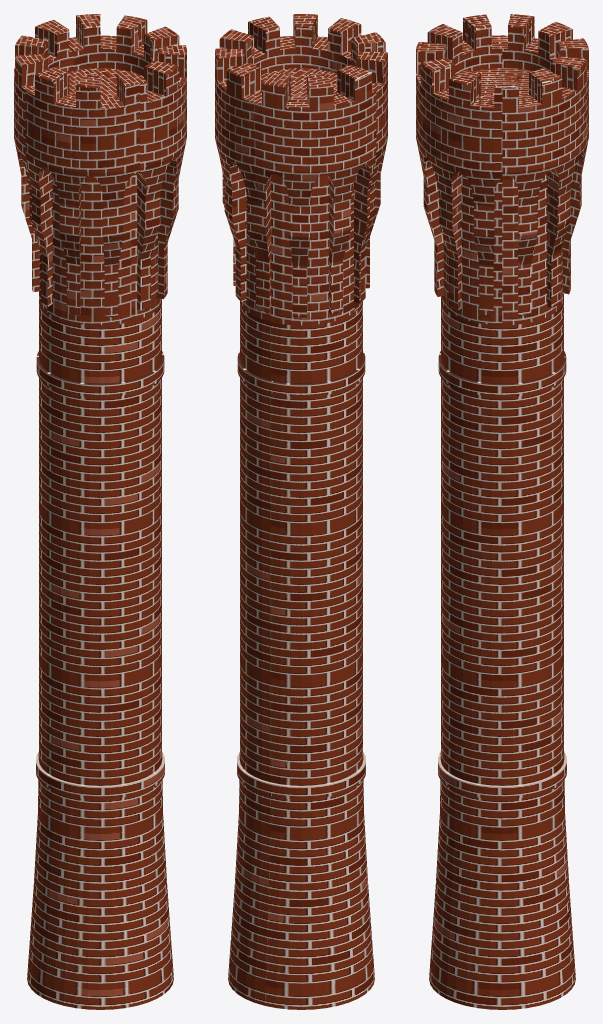
File: tower.fbx
The picture shows the model from 3 angles, left to right: view 1: azimuth 30°, elevation 25°; view 2: azimuth 150°, elevation 25°; view 3: azimuth 270°, elevation 25°; orthographic projection.
Visible parts, largest first — view 1: Only Tower; view 2: Only Tower; view 3: Only Tower.
Boxes of the visible parts, box(x1,y1,x2,y2) form: Only Tower: box(14, 14, 186, 1009); Only Tower: box(215, 14, 387, 1009); Only Tower: box(416, 14, 588, 1009).
Bounding box in the file's own units: 465 × 2753 × 464.
